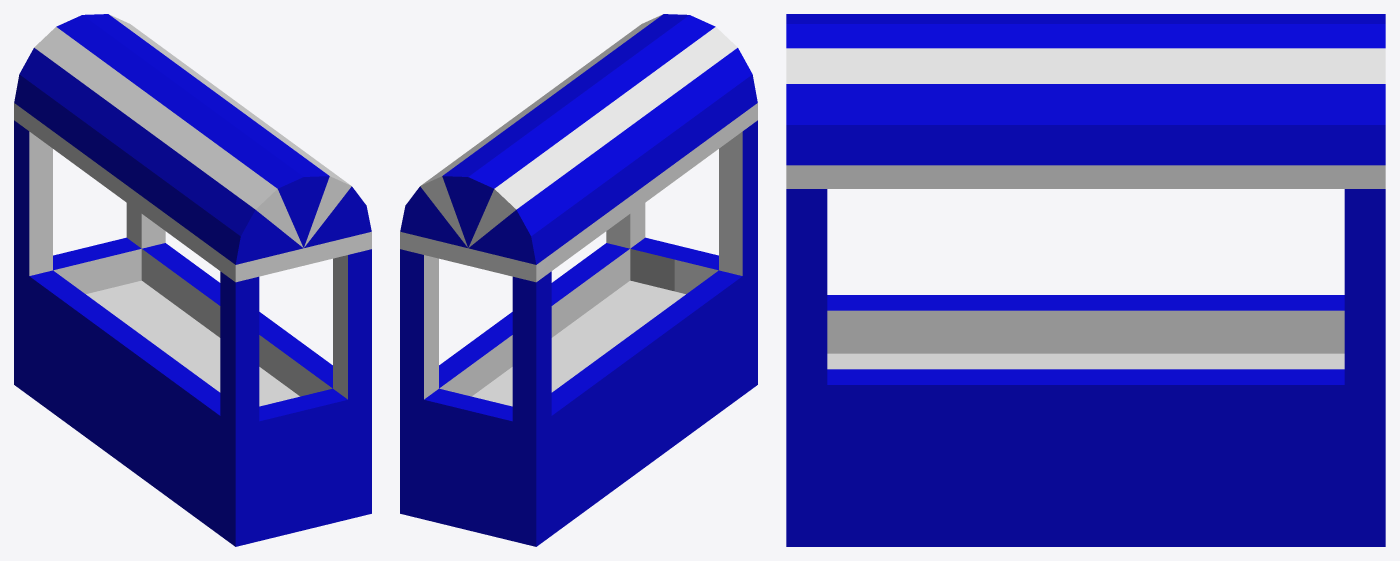
Rendered from stand1.fbx.
The picture shows the model from 3 angles, left to right: view 1: azimuth 30°, elevation 25°; view 2: azimuth 150°, elevation 25°; view 3: azimuth 270°, elevation 25°; orthographic projection. The views are drawn at different scales.
Visible parts, largest first — view 1: stand; view 2: stand; view 3: stand.
Boxes of the visible parts, box(x1,y1,x2,y2) form: stand: box(14, 14, 371, 546); stand: box(400, 14, 757, 546); stand: box(786, 14, 1385, 546).
Size of the model in its own units: 1.35 by 3.36 by 3.81.
